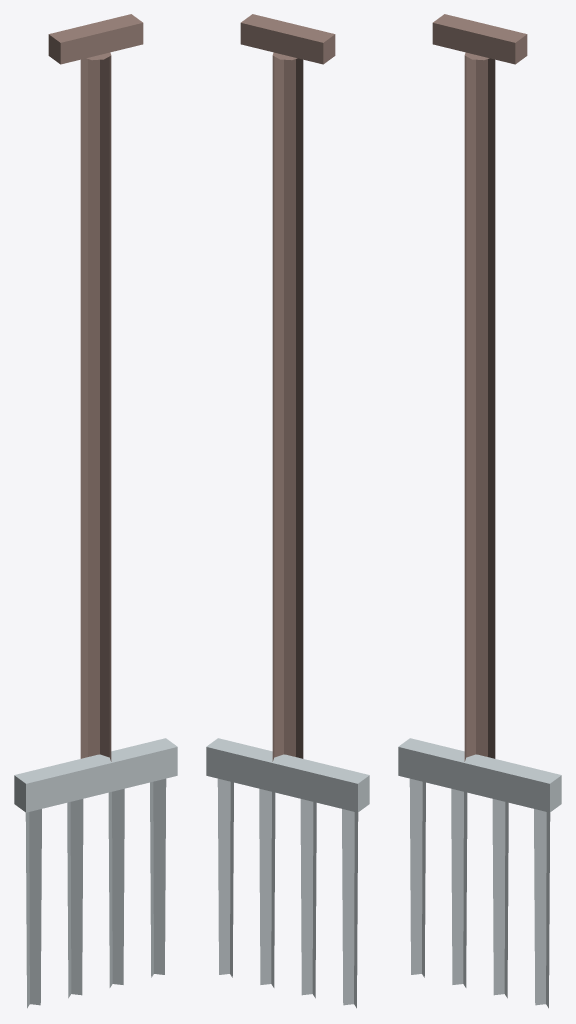
File: grep.glb
3 renders of one model, left to right at view 1: azimuth 30°, elevation 25°; view 2: azimuth 150°, elevation 25°; view 3: azimuth 330°, elevation 25°, orthographic.
Visible parts, largest first — view 1: grep; view 2: grep; view 3: grep.
Part boxes in pixels (<box>): grep: <box>14,14,177,1008</box>; grep: <box>206,14,369,1008</box>; grep: <box>398,14,561,1008</box>.
Bounding box in the file's own units: 0.22 × 1.34 × 0.0399.
